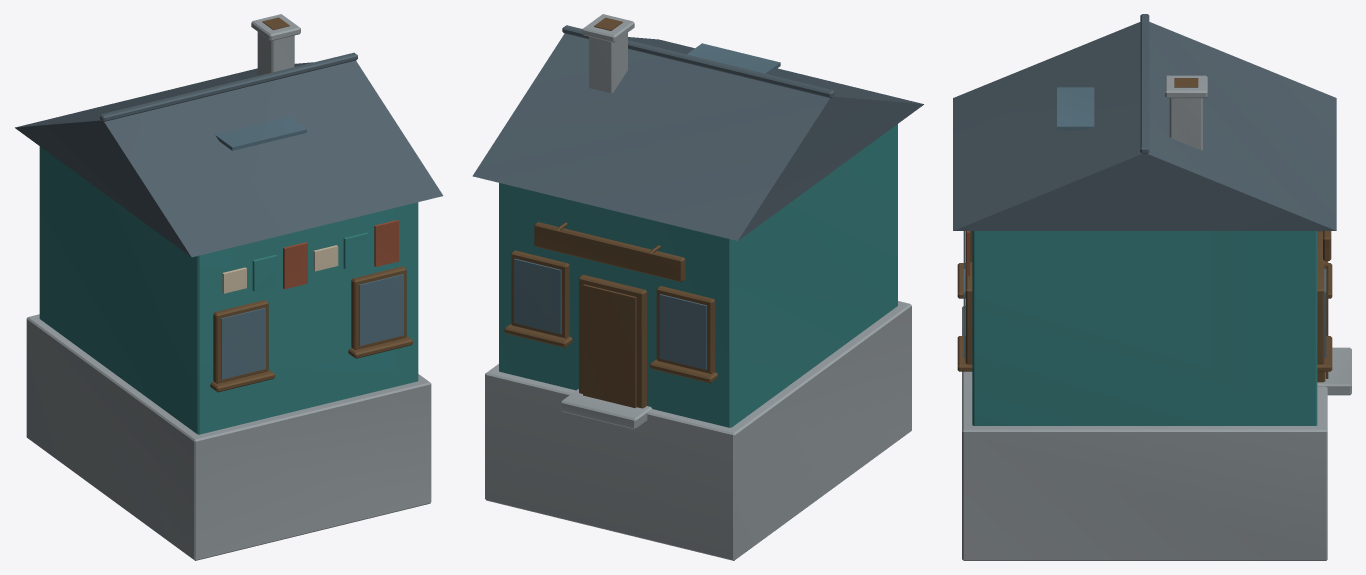
Rendered from house-art.glb.
The picture shows the model from 3 angles, left to right: view 1: azimuth 30°, elevation 25°; view 2: azimuth 150°, elevation 25°; view 3: azimuth 270°, elevation 25°; orthographic projection. The views are drawn at different scales.
Visible parts, largest first — view 1: house walls.001, stone foundation.001, pitched roof.001, window glass.004, chimney opening.001, mural color panel.008, mural color panel.006; view 2: stone foundation.001, pitched roof.001, house walls.001, chimney opening.001, window glass.004; view 3: house walls.001, pitched roof.001, stone foundation.001, chimney opening.001, window glass.004.
Part boxes in pixels (left/top/right/bottom): house walls.001: left=39, top=146, right=418, bottom=434; stone foundation.001: left=26, top=14, right=431, bottom=560; pitched roof.001: left=15, top=52, right=443, bottom=257; window glass.004: left=215, top=116, right=403, bottom=379; chimney opening.001: left=210, top=17, right=412, bottom=392; mural color panel.008: left=283, top=220, right=398, bottom=289; mural color panel.006: left=222, top=245, right=338, bottom=293; stone foundation.001: left=485, top=14, right=911, bottom=560; pitched roof.001: left=472, top=25, right=923, bottom=240; house walls.001: left=499, top=124, right=897, bottom=427; chimney opening.001: left=504, top=17, right=717, bottom=408; window glass.004: left=514, top=43, right=780, bottom=369; house walls.001: left=972, top=231, right=1317, bottom=425; pitched roof.001: left=953, top=14, right=1336, bottom=230; stone foundation.001: left=962, top=75, right=1351, bottom=560; chimney opening.001: left=957, top=78, right=1332, bottom=382; window glass.004: left=963, top=87, right=1326, bottom=357.
Size of the model in its own units: 4.63 by 7.22 by 5.78.
